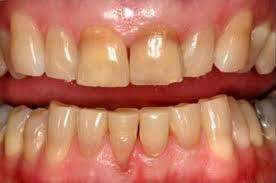Discoloration: (126, 18, 186, 87), (78, 24, 133, 90)
